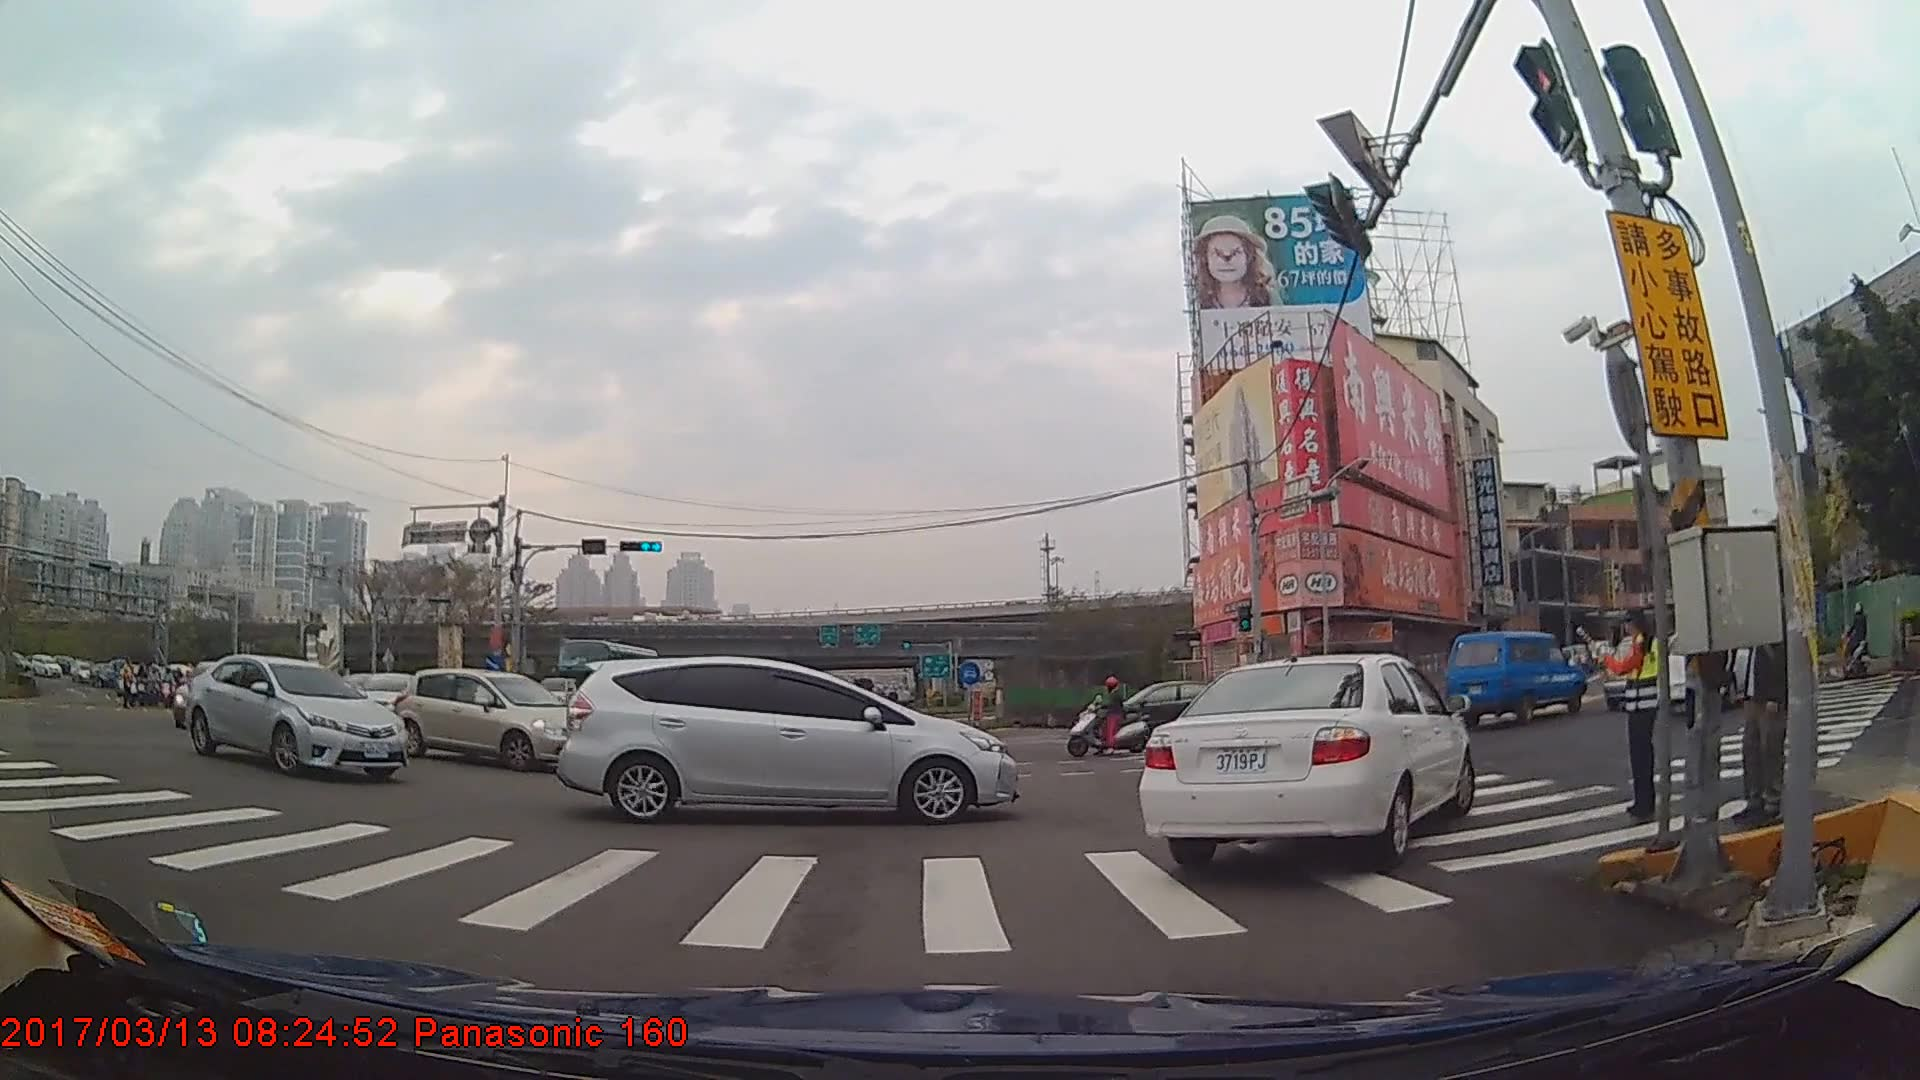pedestrian: (1714, 533, 1803, 838), (1610, 609, 1666, 829)
rider: (1067, 674, 1150, 758), (1836, 600, 1874, 680)
vehicle: (553, 654, 1018, 824), (1135, 647, 1473, 871), (181, 653, 406, 783), (389, 668, 587, 772), (1441, 627, 1587, 724), (1080, 678, 1236, 743)
